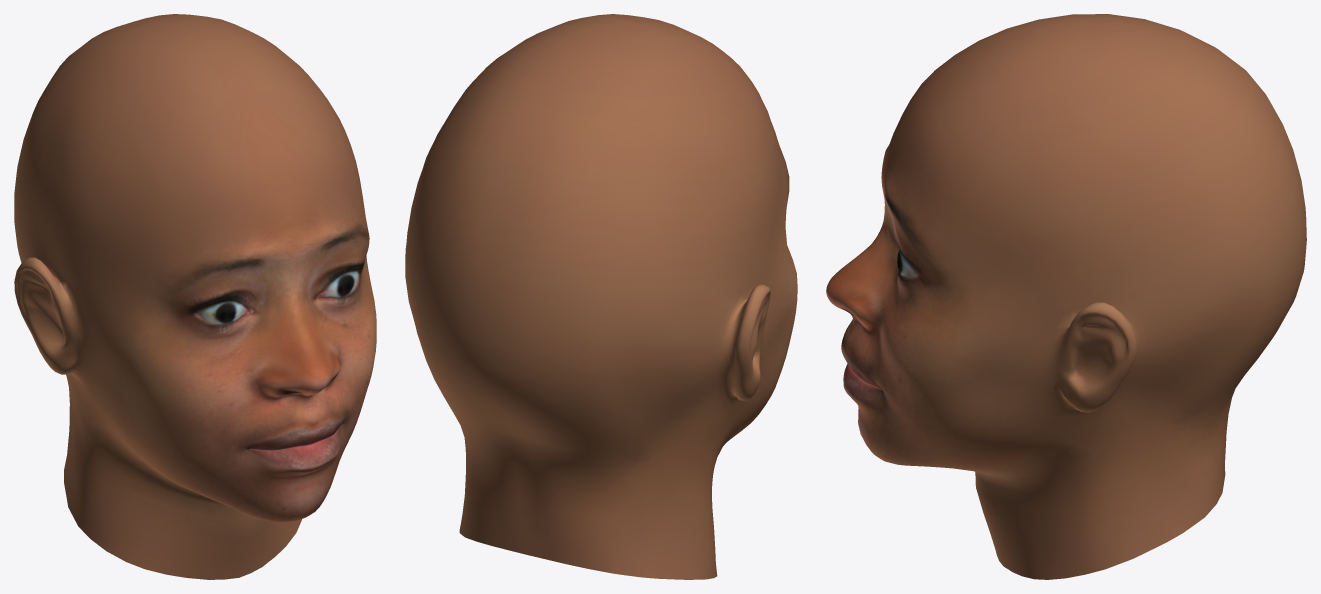
Rendered from v332_obj_ModifierBrowRaiserInner(AU01).obj.
3 renders of one model, left to right at view 1: azimuth 30°, elevation 25°; view 2: azimuth 150°, elevation 25°; view 3: azimuth 270°, elevation 25°, orthographic. The views are drawn at different scales.
Visible parts, largest first — view 1: HeadHires; view 2: HeadHires; view 3: HeadHires.
Part boxes in pixels (x1=…): HeadHires: x1=14, y1=14, x2=376, y2=579; HeadHires: x1=405, y1=14, x2=797, y2=579; HeadHires: x1=826, y1=14, x2=1306, y2=579.
Size of the model in its own units: 187 by 282 by 233.
